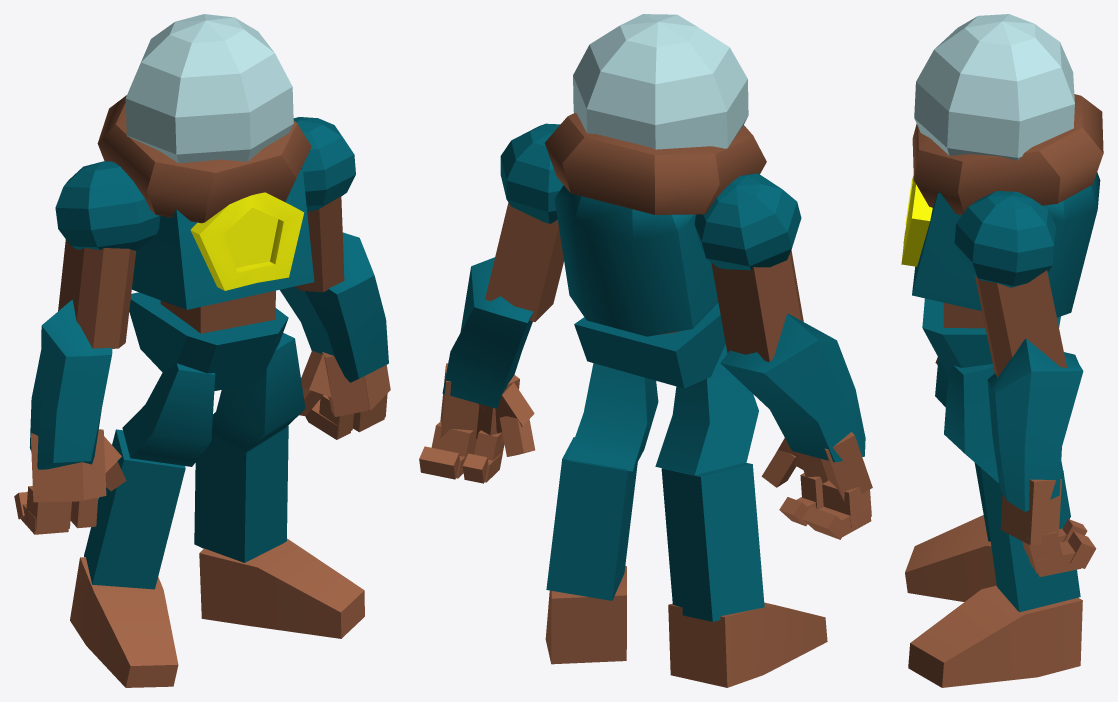
File: FishSuit.fbx
The picture shows the model from 3 angles, left to right: view 1: azimuth 30°, elevation 25°; view 2: azimuth 150°, elevation 25°; view 3: azimuth 270°, elevation 25°; orthographic projection. The views are drawn at different scales.
Parts seen in each view (by area): view 1: pCube7 (×2), pSphere10, pCube12 (×2), pCube6 (×2), pCube9, pCube2, pSphere11 (×2), pCube10 (×2), pCube8, pCube4, pCube22, polySurface1 (+6 smaller); view 2: pCube7 (×2), pSphere10, pCube12 (×2), pCube22, pCube6 (×2), pCube2, pCube10 (×2), pSphere11 (×2), pCube8, pCube4, pCube9, pCube14 (×2) (+4 smaller); view 3: pSphere10, pCube9, pCube2, pCube12, pCube22, pSphere11, pCube10, pCube7 (×2), pCube8, pCube6 (×2), pCube4, pCube14 (+5 smaller).
Boxes of the visible parts, <box> form: pCube7 (×2): <box>84,425,288,589</box>; pSphere10: <box>125,14,293,163</box>; pCube12 (×2): <box>29,232,388,469</box>; pCube6 (×2): <box>122,333,305,466</box>; pCube9: <box>199,538,364,638</box>; pCube2: <box>97,95,311,223</box>; pSphere11 (×2): <box>55,117,355,250</box>; pCube10 (×2): <box>58,196,344,348</box>; pCube8: <box>70,557,178,687</box>; pCube4: <box>129,292,288,390</box>; pCube22: <box>132,168,314,309</box>; polySurface1: <box>190,192,304,290</box>; pCube7 (×2): <box>546,437,764,621</box>; pSphere10: <box>573,14,748,149</box>; pCube12 (×2): <box>442,257,865,462</box>; pCube22: <box>554,185,718,336</box>; pCube6 (×2): <box>567,343,758,475</box>; pCube2: <box>545,113,766,214</box>; pCube10 (×2): <box>485,202,803,361</box>; pSphere11 (×2): <box>500,123,801,270</box>; pCube8: <box>668,602,827,687</box>; pCube4: <box>574,303,725,388</box>; pCube9: <box>545,565,626,664</box>; pCube14 (×2): <box>440,363,872,501</box>; pSphere10: <box>914,14,1074,160</box>; pCube9: <box>908,585,1082,687</box>; pCube2: <box>912,94,1103,215</box>; pCube12: <box>987,338,1083,511</box>; pCube22: <box>912,172,1100,317</box>; pSphere11: <box>954,191,1055,287</box>; pCube10: <box>974,270,1066,377</box>; pCube7 (×2): <box>974,461,1080,612</box>; pCube8: <box>905,515,996,601</box>; pCube6 (×2): <box>935,358,998,482</box>; pCube4: <box>922,298,1060,374</box>; pCube14: <box>1000,479,1061,545</box>.
Bounding box in the file's own units: 1001 × 1508 × 451.
